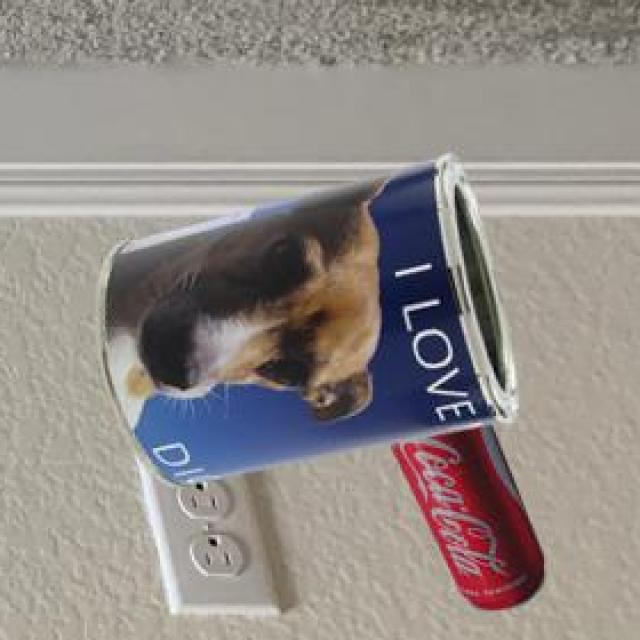logam: (99, 159, 522, 490), (394, 426, 547, 616)
